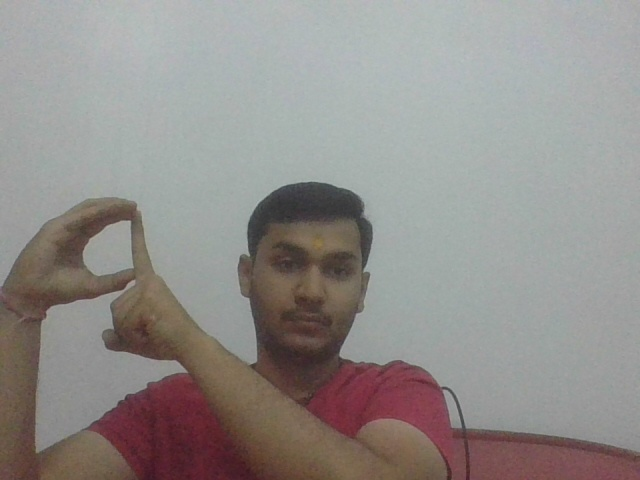D: (26, 192, 193, 364)
